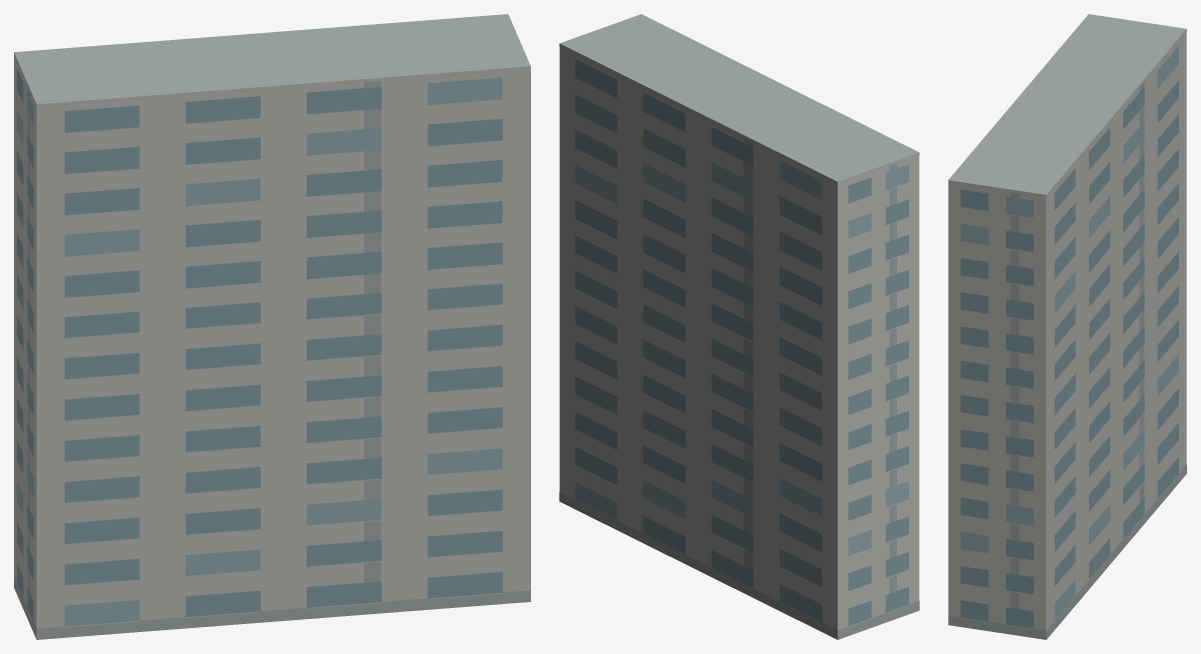
File: residential-59cdb425-3a27-4d37-9a49-ef5c80062ea8.glb
The picture shows the model from 3 angles, left to right: view 1: azimuth 30°, elevation 25°; view 2: azimuth 150°, elevation 25°; view 3: azimuth 270°, elevation 25°; orthographic projection. The views are drawn at different scales.
Visible parts, largest first — view 1: residential-59cdb425-3a27-4d37-9a49-ef5c80062ea8.tmp; view 2: residential-59cdb425-3a27-4d37-9a49-ef5c80062ea8.tmp; view 3: residential-59cdb425-3a27-4d37-9a49-ef5c80062ea8.tmp.
Boxes of the visible parts, bbox=[...] form: residential-59cdb425-3a27-4d37-9a49-ef5c80062ea8.tmp: bbox=[14, 14, 530, 639]; residential-59cdb425-3a27-4d37-9a49-ef5c80062ea8.tmp: bbox=[559, 14, 919, 639]; residential-59cdb425-3a27-4d37-9a49-ef5c80062ea8.tmp: bbox=[948, 14, 1186, 639].
Bounding box in the file's own units: 34.88 × 40 × 19.45.
